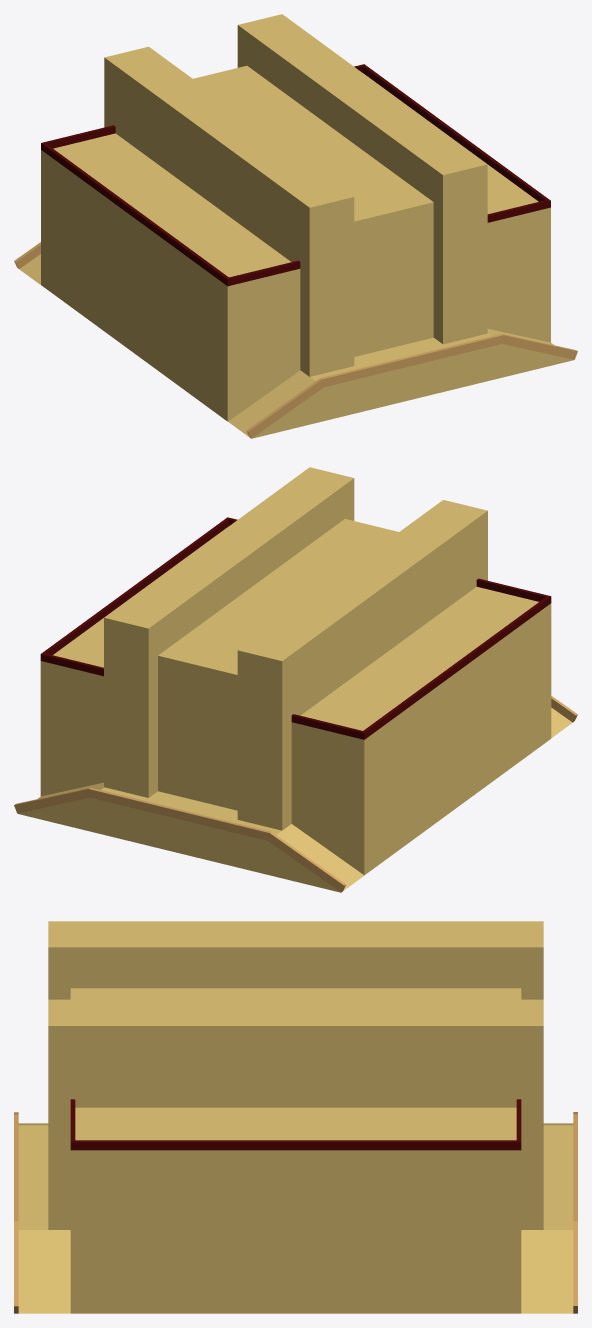
The model's file is palace-loam.obj.
The picture shows the model from 3 angles, top to bottom: view 1: azimuth 30°, elevation 25°; view 2: azimuth 150°, elevation 25°; view 3: azimuth 270°, elevation 25°; orthographic projection. The views are drawn at different scales.
Visible parts, largest first — view 1: Grid, Cube.001_Cube, Cube; view 2: Grid, Cube, Cube.001_Cube; view 3: Grid, Cube.001_Cube, Cube.
Part boxes in pixels (x1=…): Grid: x1=41, y1=14, x2=550, y2=421; Cube.001_Cube: x1=228, y1=329, x2=577, y2=438; Cube: x1=14, y1=242, x2=40, y2=284; Grid: x1=40, y1=467, x2=551, y2=875; Cube: x1=14, y1=782, x2=364, y2=892; Cube.001_Cube: x1=551, y1=696, x2=577, y2=737; Grid: x1=48, y1=921, x2=543, y2=1313; Cube.001_Cube: x1=14, y1=1112, x2=70, y2=1313; Cube: x1=521, y1=1112, x2=577, y2=1313.
Bounding box in the file's own units: 1.02 × 0.6 × 1.25.
